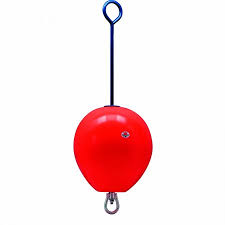buoy: (75, 107, 153, 191)
